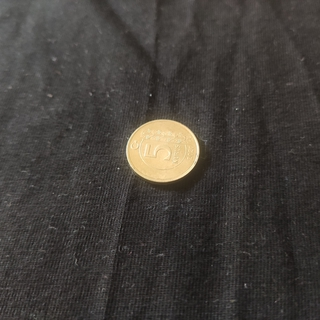5KURUS: (124, 117, 201, 186)
